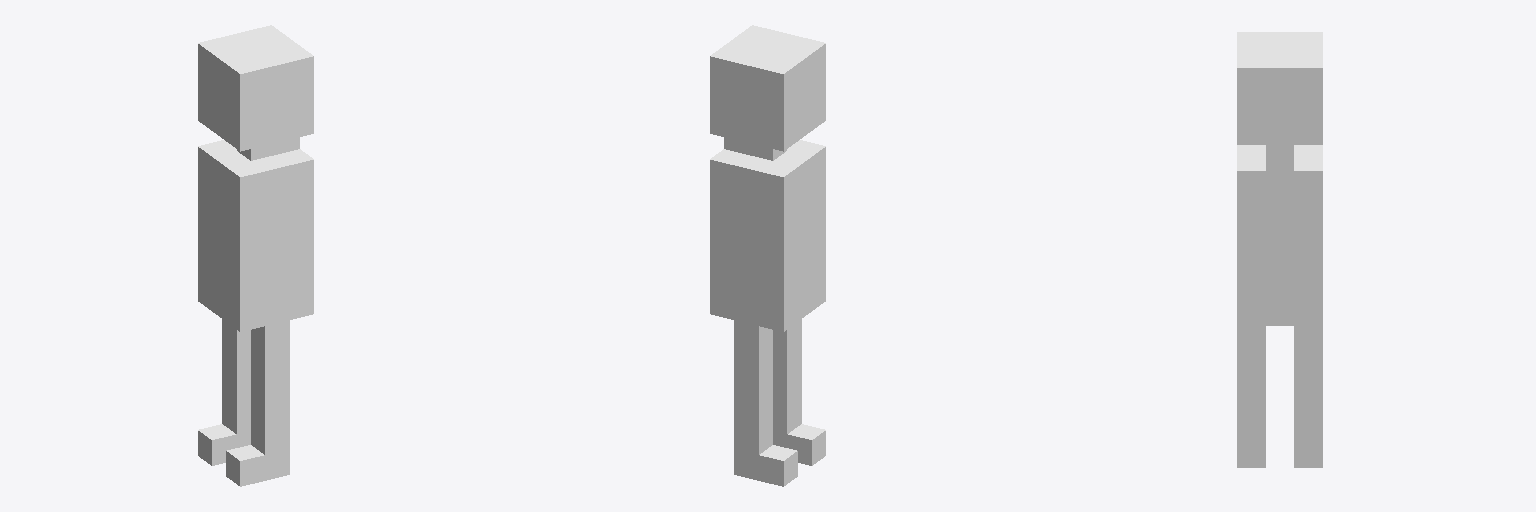
The model's file is -0-torso_stand.obj.
The picture shows the model from 3 angles: view 1: azimuth 30°, elevation 25°; view 2: azimuth 150°, elevation 25°; view 3: azimuth 270°, elevation 25°; orthographic projection.
Visible parts, largest first — view 1: torso_stand; view 2: torso_stand; view 3: torso_stand.
Boxes of the visible parts, x1,y1,x2,y2 form: torso_stand: [198, 25, 313, 486]; torso_stand: [710, 25, 825, 486]; torso_stand: [1237, 32, 1322, 467].
Bounding box in the file's own units: 0.3 × 1.6 × 0.3.